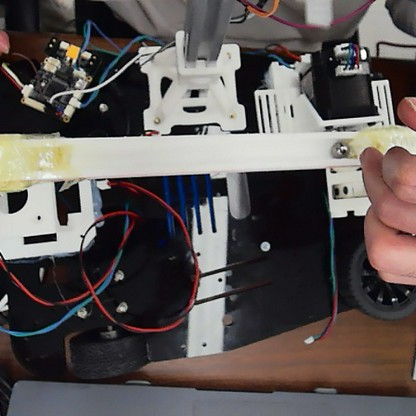ironball: (329, 137, 350, 159)
